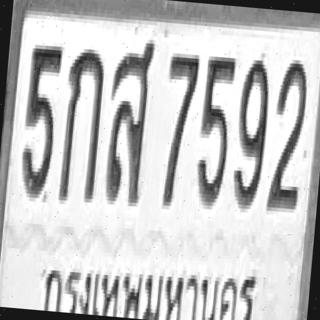A01: (58, 44, 106, 202)
A40: (102, 35, 154, 205)
N02: (266, 56, 309, 211)
N05: (18, 40, 62, 199), (194, 52, 236, 207)
N07: (157, 49, 199, 207)
N09: (231, 55, 271, 210)
